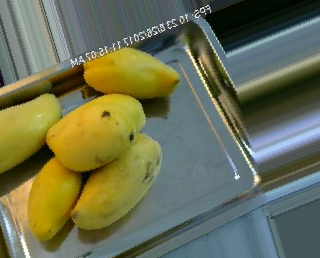Mango: (70, 133, 161, 231), (45, 93, 146, 172), (81, 47, 180, 99), (0, 91, 62, 172), (28, 155, 83, 243)
